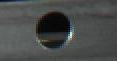holes: (34, 9, 72, 51)
